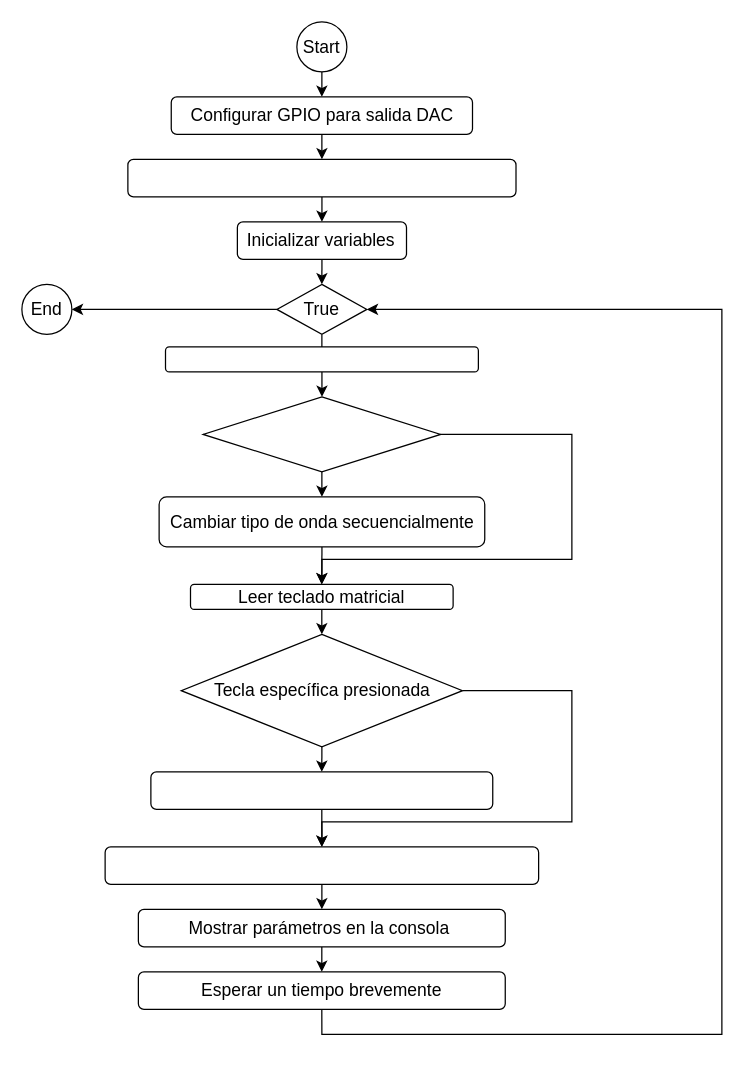
Image size: 754x1066. Some labels were removed from this diagram. Here are the shapes that lost their labels. From the top down, the centre of each, then its label:
point (321, 177): Configurar entradas de teclado y botón
point (321, 359): Chequear botón de cambio de onda
point (321, 434): ¿Botón presionado?
point (321, 790): Ajustar parámetros (A, B, C) usando DAC
point (321, 865): Generar y emitir forma de onda seleccionada con DAC
